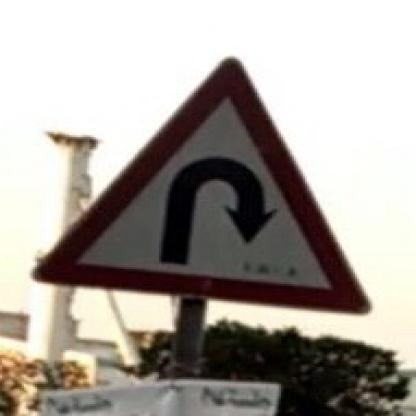U-Turn: (33, 54, 373, 314)
